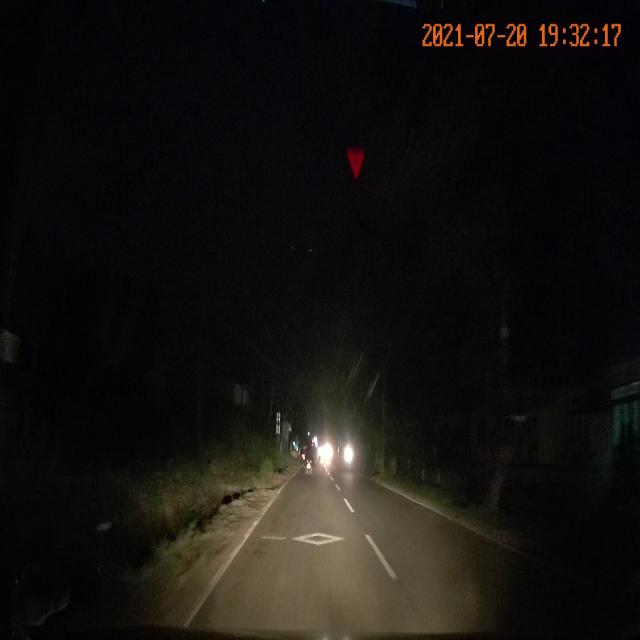Romb: (291, 532, 348, 547)
